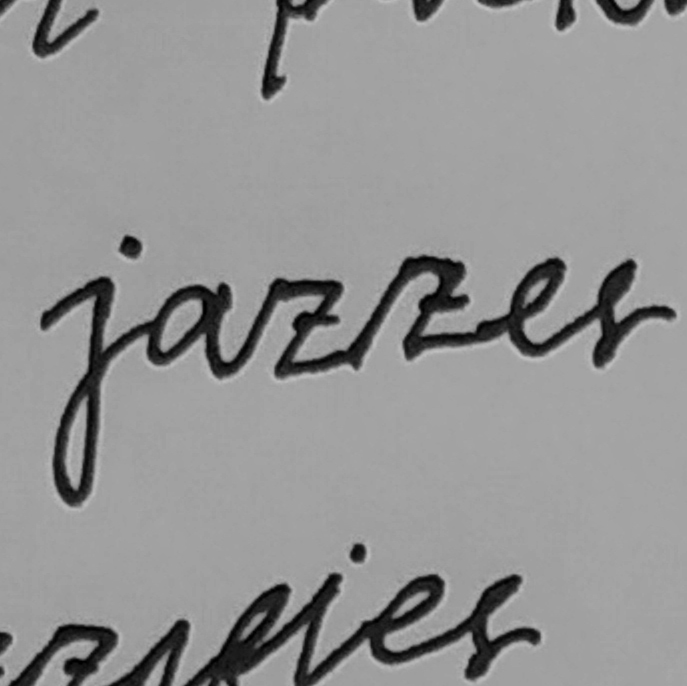a: (138, 271, 236, 385)
e: (496, 247, 574, 367)
j: (31, 227, 134, 516)
s: (578, 249, 684, 376)
z: (246, 263, 357, 387), (375, 248, 484, 367)
